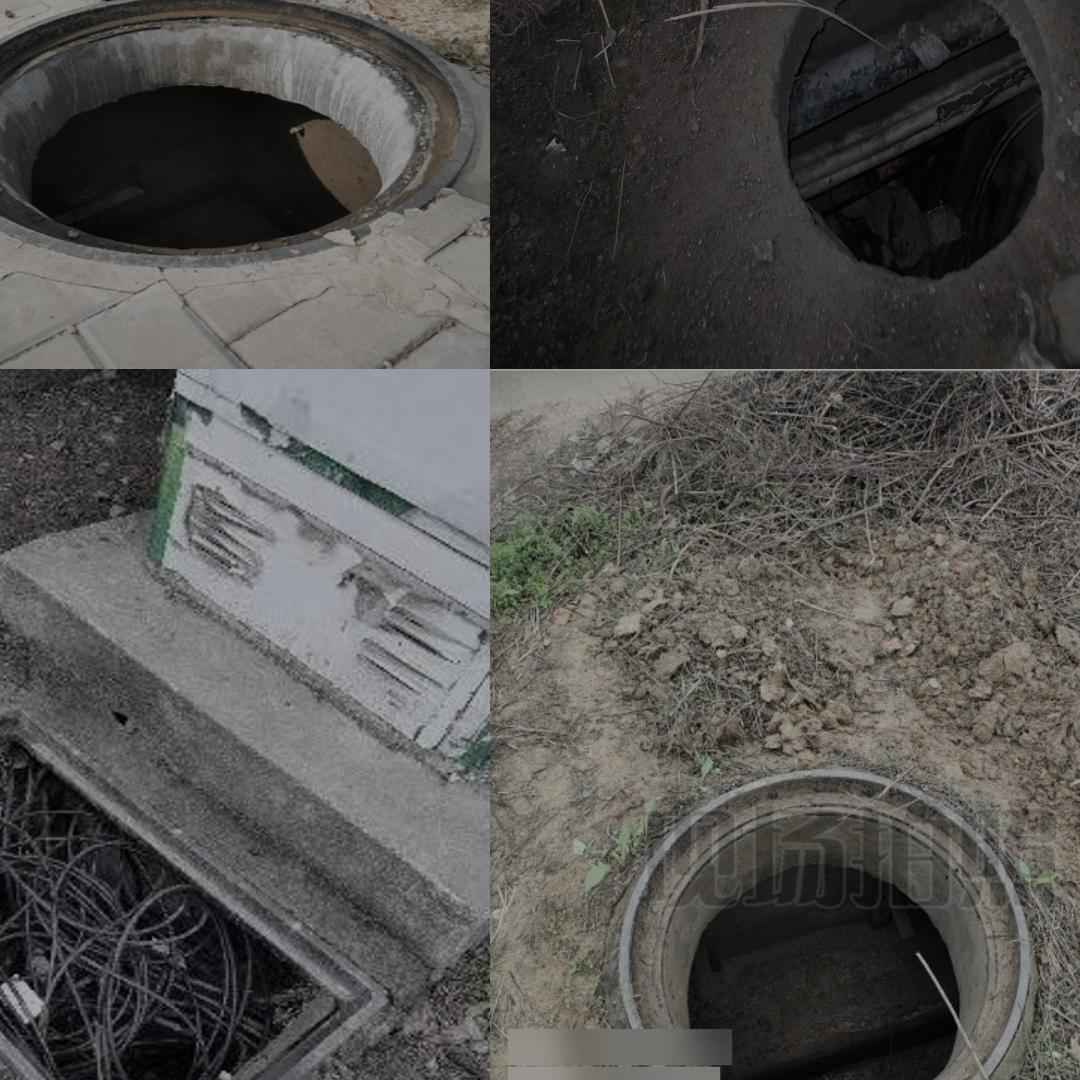lose: (600, 760, 1040, 1080), (0, 723, 396, 1077), (0, 0, 478, 265), (770, 0, 1057, 289)
